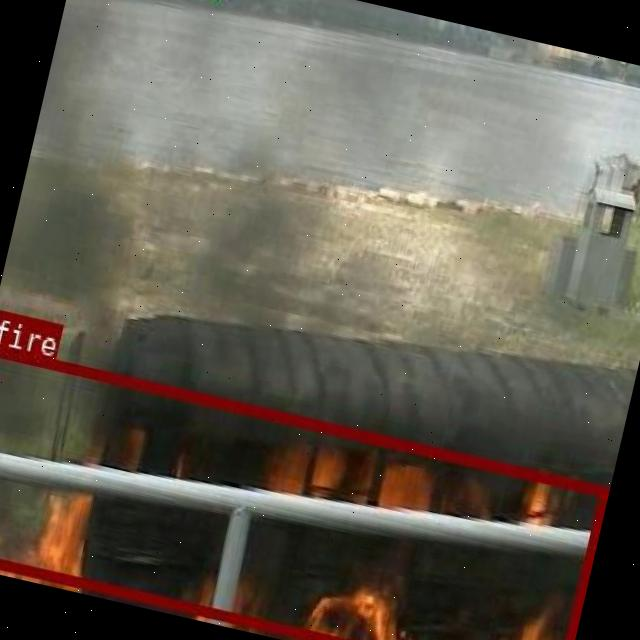fire: (0, 342, 607, 640)
